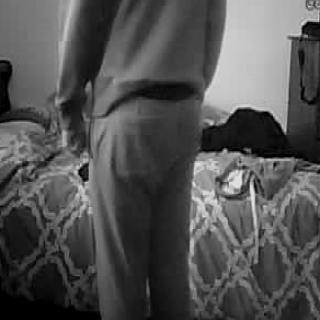Blue Hoodie: (58, 0, 229, 92)
Gray Sweatpants: (84, 91, 204, 320)
